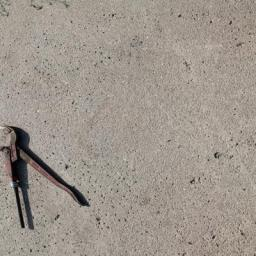FOD: (1, 124, 91, 231)
